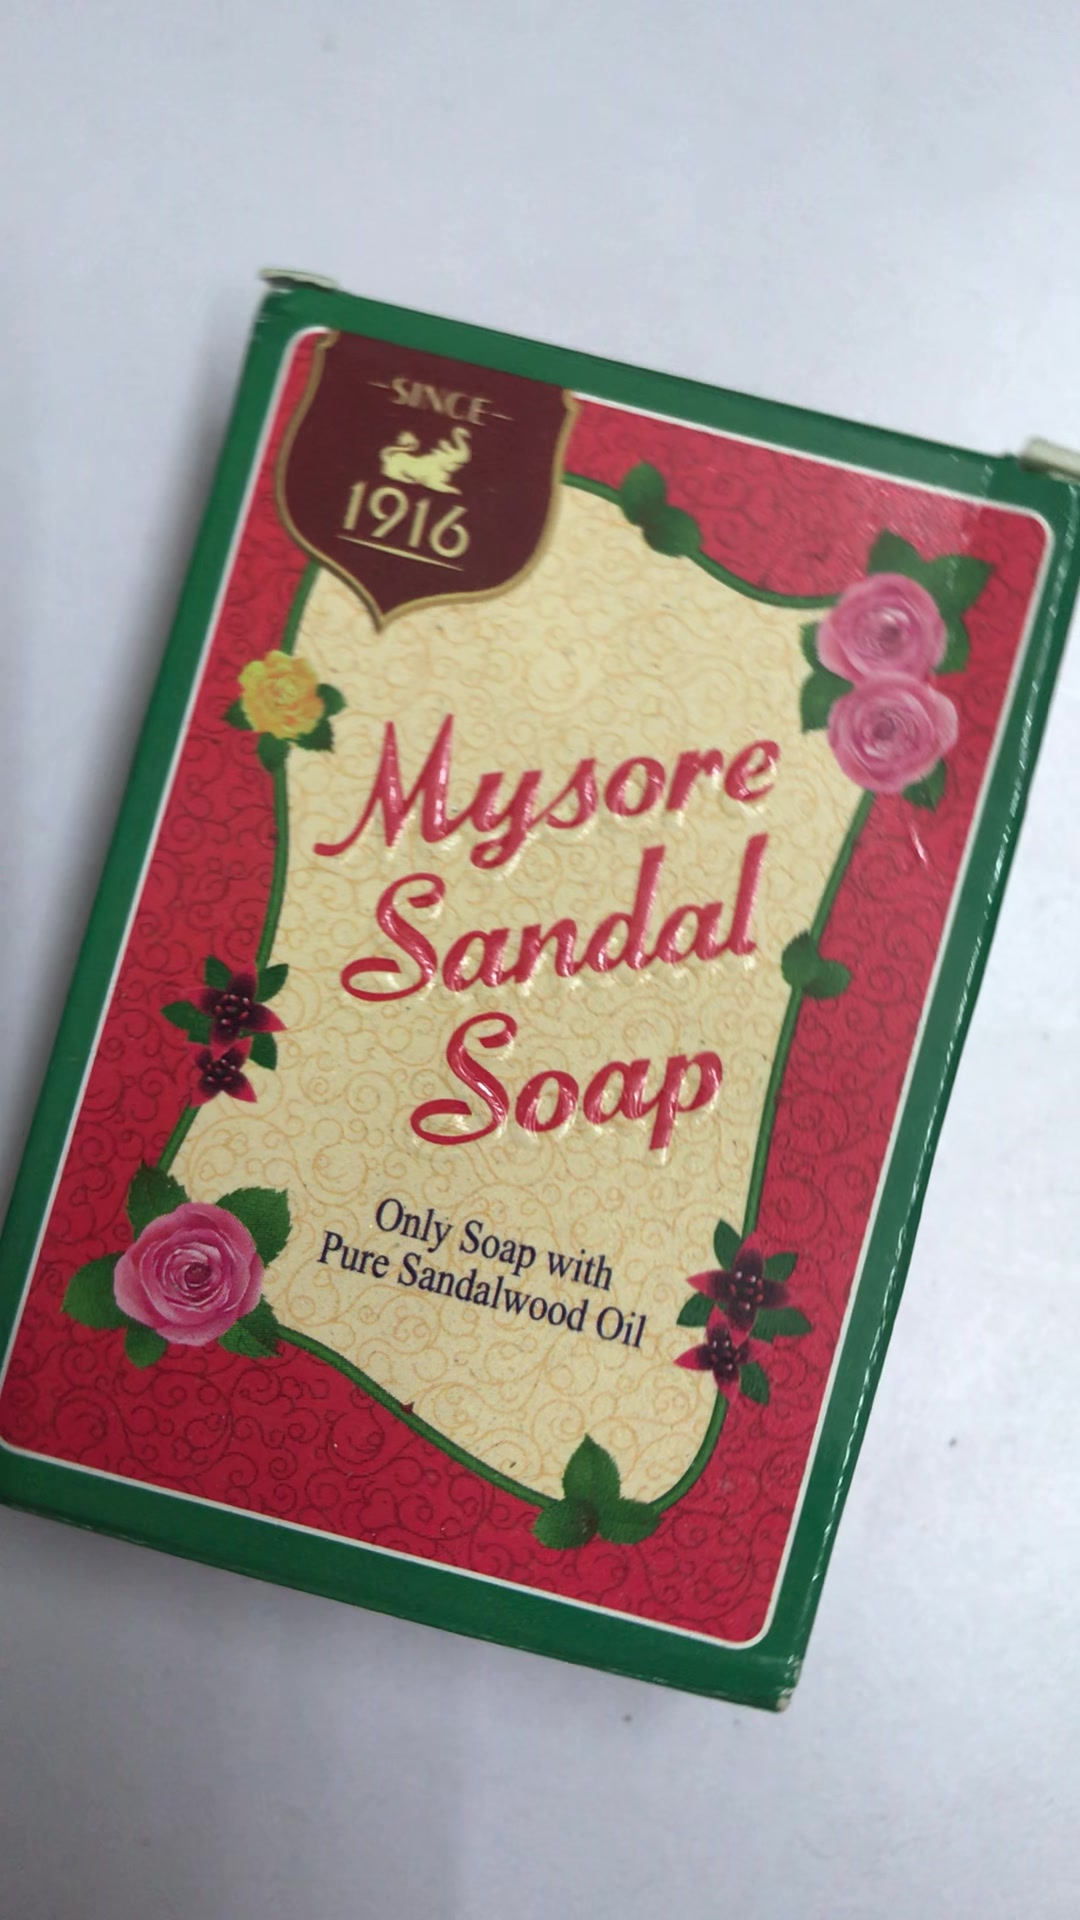mysore sandal soap: (3, 286, 1080, 1720)
